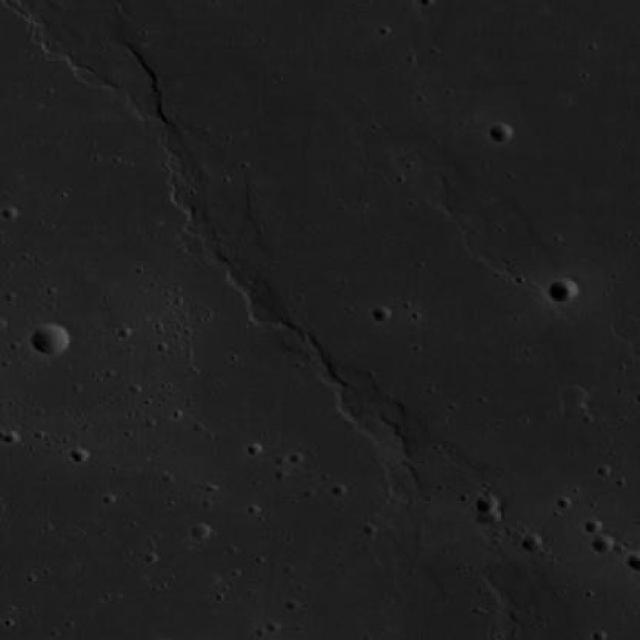crater: (30, 324, 70, 354), (548, 276, 577, 302), (559, 384, 587, 407), (562, 400, 587, 420), (474, 493, 498, 513), (592, 534, 614, 554), (476, 506, 499, 525), (490, 123, 513, 142), (522, 532, 544, 551), (372, 305, 392, 321), (190, 522, 210, 538)
